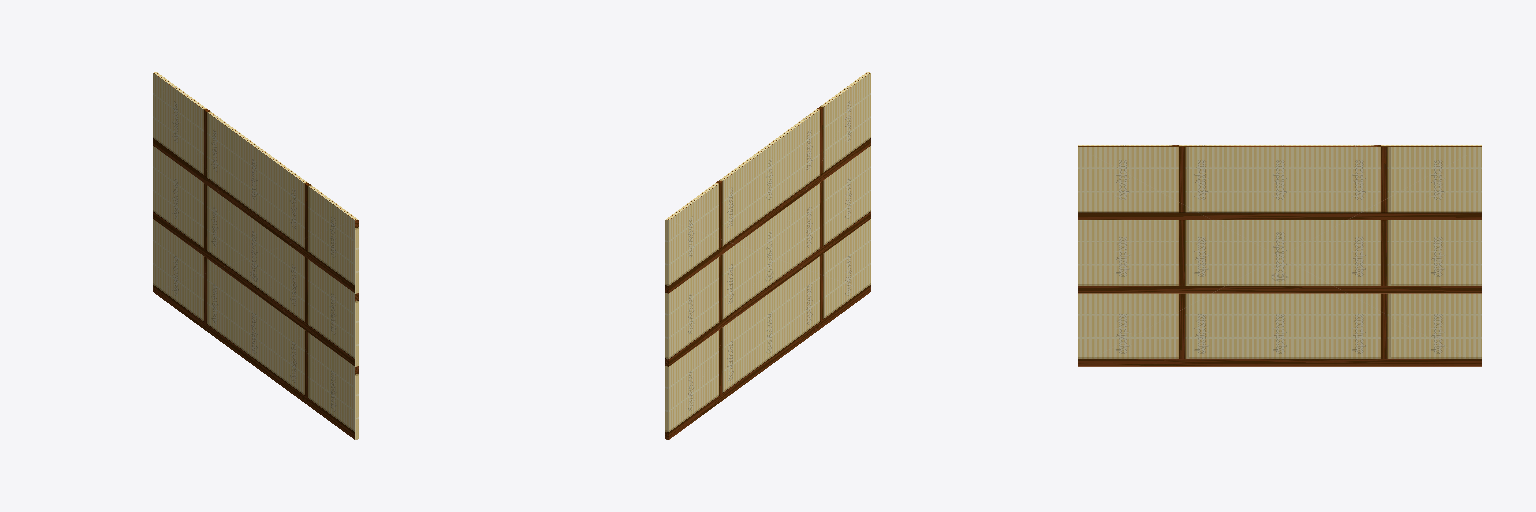
3 views of the same model, side by side, from view 1: azimuth 30°, elevation 25°; view 2: azimuth 150°, elevation 25°; view 3: azimuth 270°, elevation 25° (orthographic).
Visible parts, largest first — view 1: Cube.001; view 2: Cube.001; view 3: Cube.001.
Boxes of the visible parts, x1=… form: Cube.001: x1=153, y1=72, x2=358, y2=439; Cube.001: x1=665, y1=72, x2=870, y2=439; Cube.001: x1=1078, y1=145, x2=1481, y2=366.
Size of the model in its own units: 0.1 by 6 by 10.
Materials: 1 (1 with a texture image).